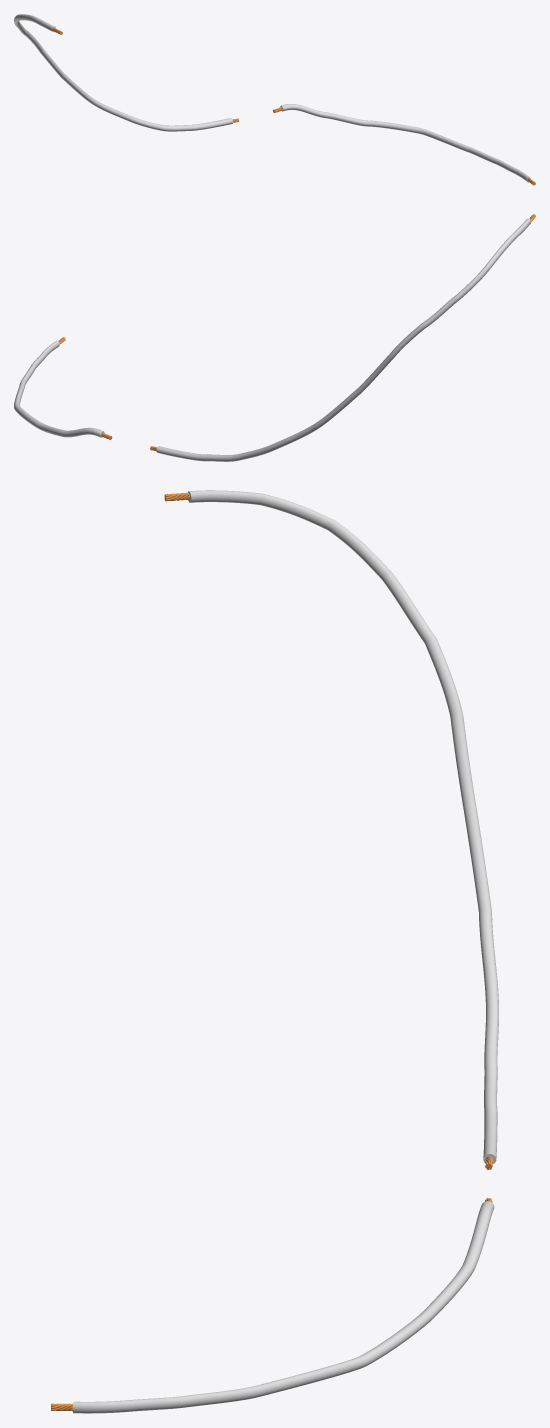
The model's file is wireWithSwitch.fbx.
3 renders of one model, top to bottom at view 1: azimuth 30°, elevation 25°; view 2: azimuth 150°, elevation 25°; view 3: azimuth 270°, elevation 25°, orthographic. The views are drawn at different scales.
Parts seen in each view (by area): view 1: WireWithSwitch; view 2: WireWithSwitch; view 3: WireWithSwitch.
Part boxes in pixels (x1=…): WireWithSwitch: x1=14, y1=14, x2=530, y2=182; WireWithSwitch: x1=14, y1=218, x2=530, y2=461; WireWithSwitch: x1=72, y1=490, x2=498, y2=1413.
Bounding box in the file's own units: 2267 × 1166 × 974.
